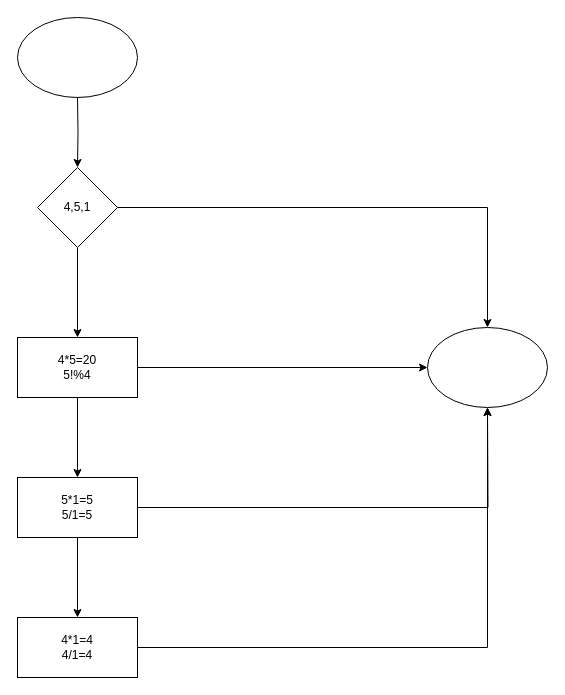
Some shapes in this 565 by 695 pixel diagram are drawn without their labels. The box of each missing label's shape, as (x1, y1, x2, y2) in pixels:
End: (426, 326, 548, 408)
Start: (16, 16, 138, 98)
